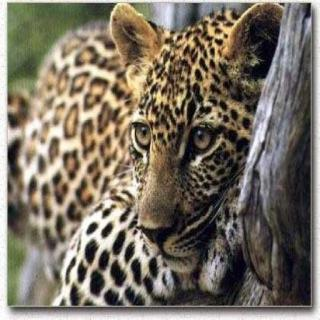Leopard: (22, 2, 296, 306)
